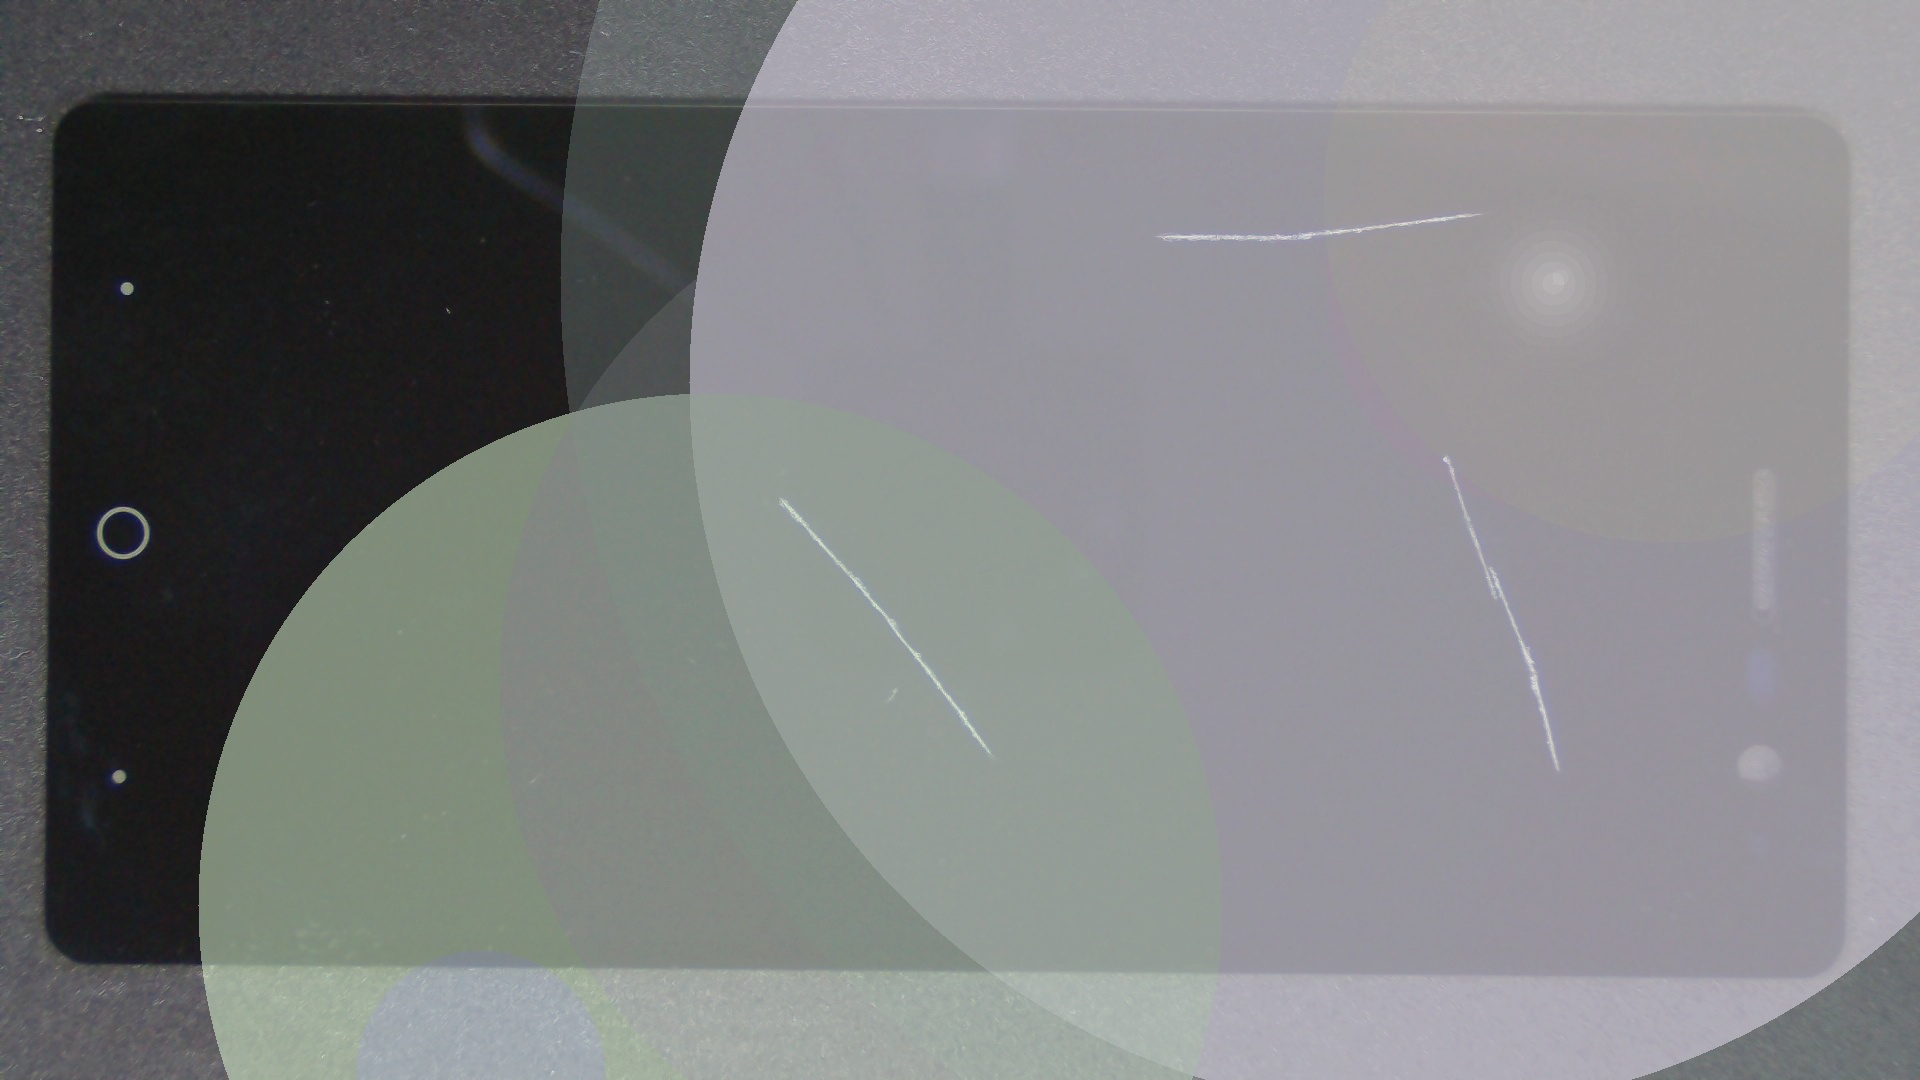oil: (724, 225, 1920, 682), (392, 248, 1174, 745), (733, 105, 1920, 319)
